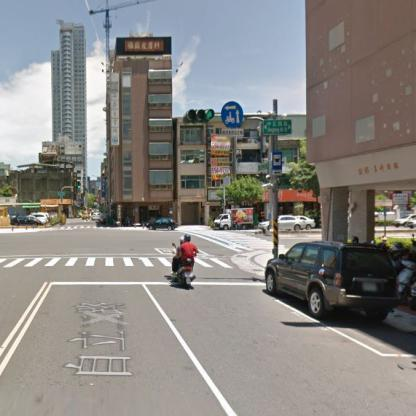Green Light: (184, 108, 216, 121)
